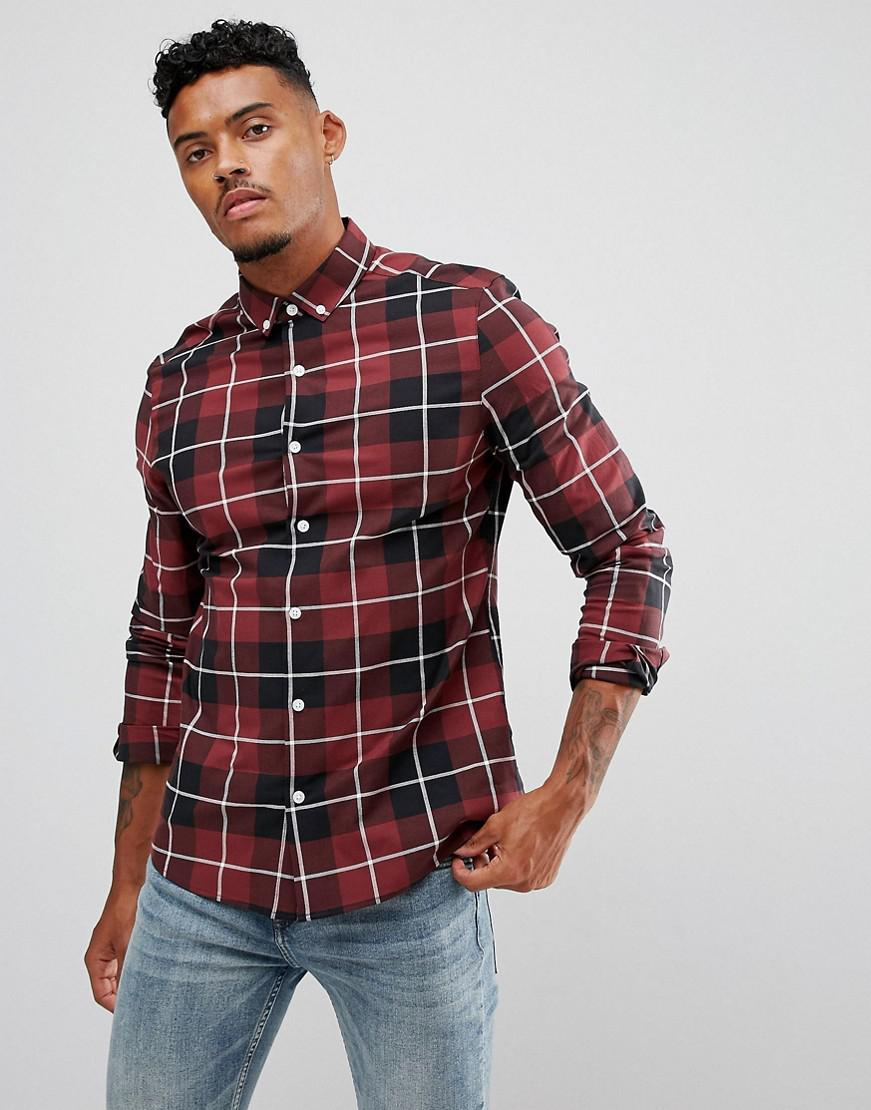teeshirt: (110, 222, 686, 924)
